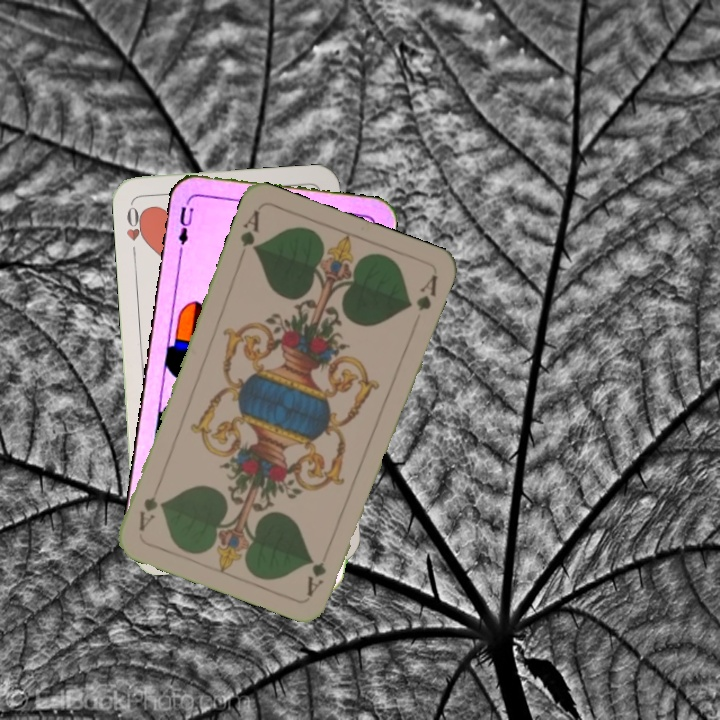EU: (174, 203, 197, 247)
GA: (303, 542, 333, 599), (235, 206, 263, 263)
HO: (122, 201, 148, 260)
